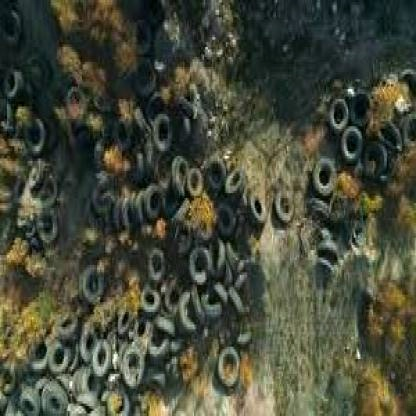tire: (8, 247, 252, 416), (86, 158, 272, 242), (107, 42, 173, 164), (326, 84, 416, 168), (1, 13, 35, 154), (29, 107, 60, 252), (212, 334, 246, 389), (307, 156, 341, 203), (273, 186, 300, 223)
